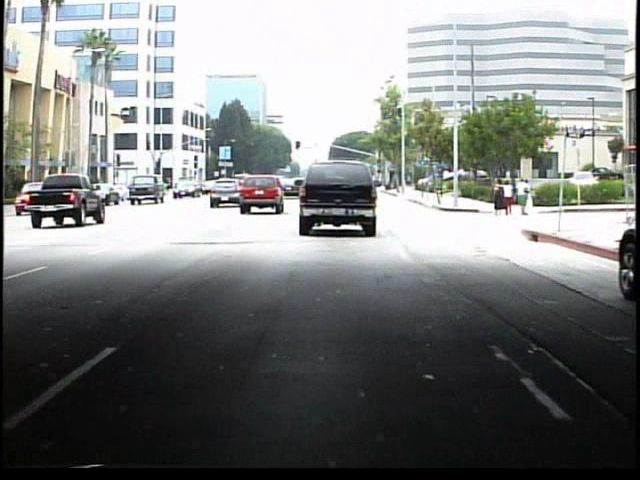person: (517, 177, 532, 218), (490, 178, 505, 215), (502, 179, 515, 217)
